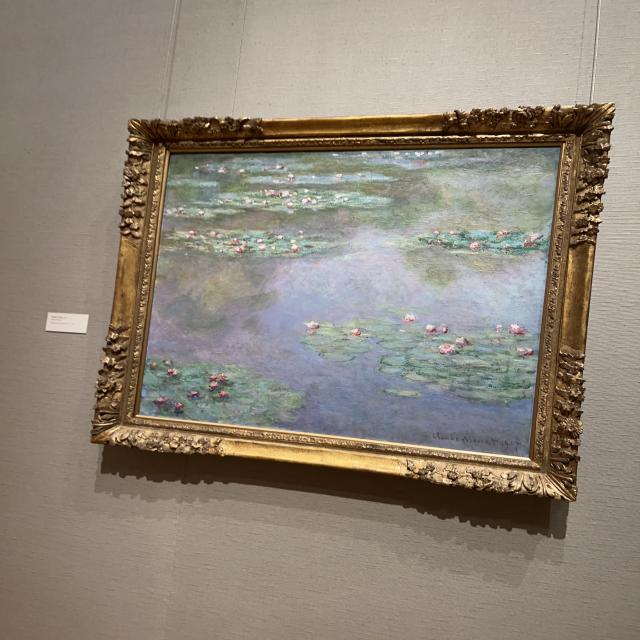lilies: (142, 146, 557, 454)
